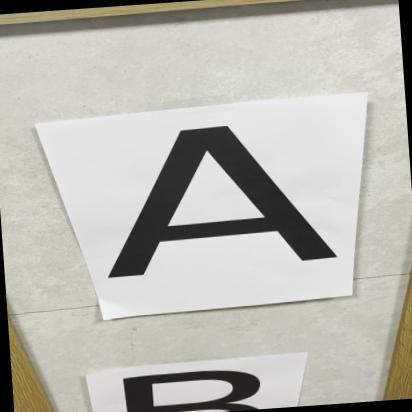seat: (90, 115, 352, 287)
